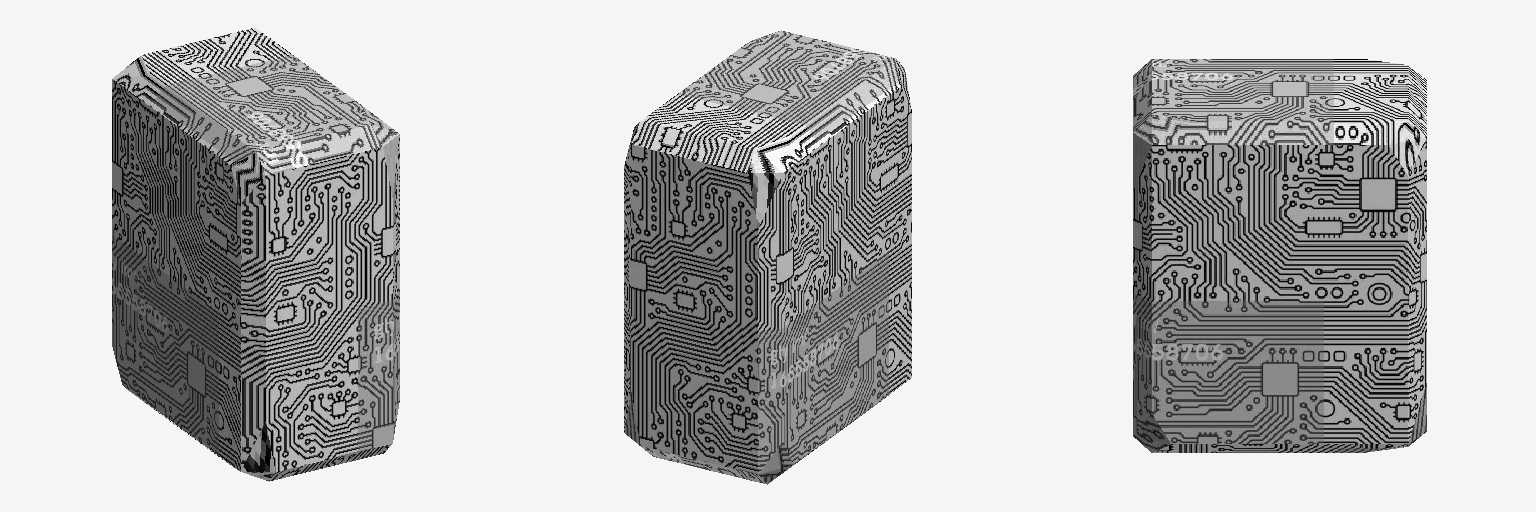
3 views of the same model, side by side, from view 1: azimuth 30°, elevation 25°; view 2: azimuth 150°, elevation 25°; view 3: azimuth 270°, elevation 25° (orthographic).
Visible parts, largest first — view 1: Cube.002; view 2: Cube.002; view 3: Cube.002.
Boxes of the visible parts, x1=… form: Cube.002: x1=112, y1=27, x2=399, y2=481; Cube.002: x1=624, y1=30, x2=911, y2=484; Cube.002: x1=1133, y1=59, x2=1426, y2=452.
Bounding box in the file's own units: 1 × 2 × 1.6.
1 materials, 1 textured.